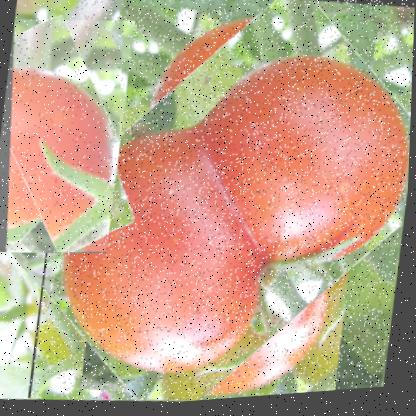tomato: (30, 0, 415, 413), (0, 11, 137, 263)
